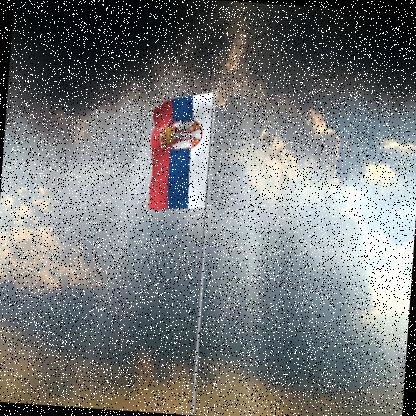rs: (147, 89, 215, 216)
